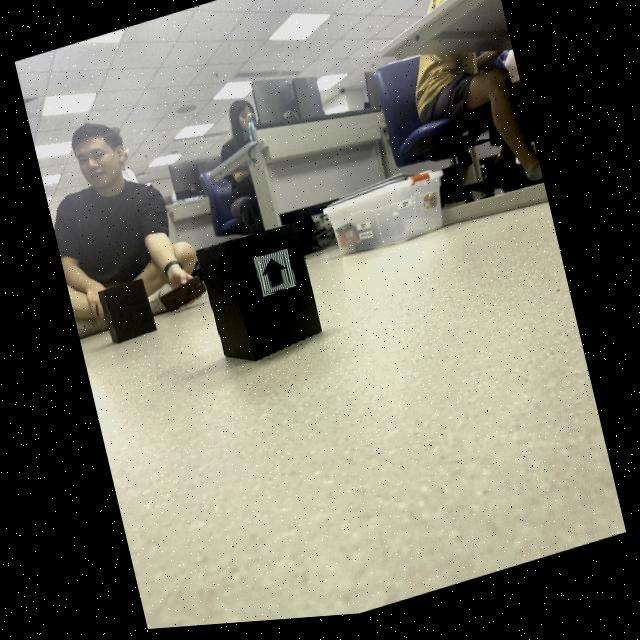UP: (262, 261, 286, 291)
